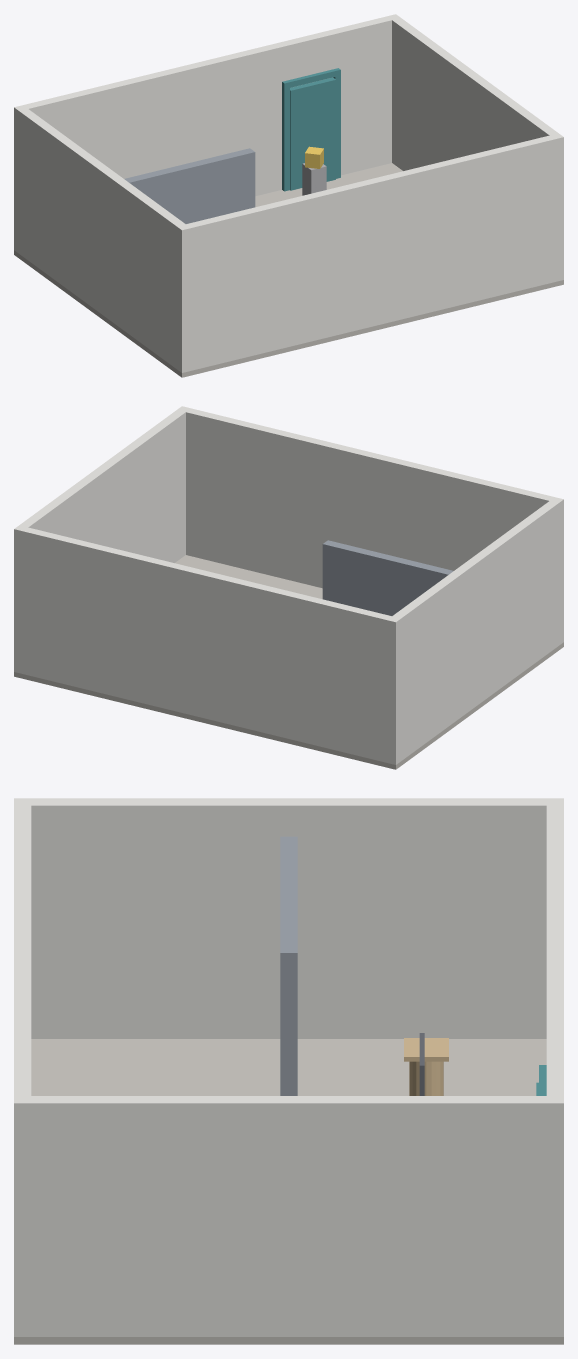
Rendered from world.glb.
3 renders of one model, top to bottom at view 1: azimuth 30°, elevation 25°; view 2: azimuth 150°, elevation 25°; view 3: azimuth 270°, elevation 25°, orthographic. The views are drawn at different scales.
Parts seen in each view (by area): view 1: WallSouth, WallNorth, WallWest, WallEast, Partition, Door_Home, Floor, BeaconStand; view 2: WallNorth, WallSouth, WallWest, WallEast, Partition, Floor; view 3: WallEast, WallWest, Floor, WallNorth, WallSouth, Partition, Plinth.
Part boxes in pixels (box(x1,y1,x2,y2)): WallSouth: box(176, 133, 563, 372); WallNorth: box(14, 14, 400, 253); WallWest: box(19, 109, 185, 368); WallEast: box(392, 18, 558, 170); Partition: box(124, 148, 255, 223); Door_Home: box(282, 68, 340, 191); Floor: box(14, 163, 563, 377); BeaconStand: box(302, 163, 326, 195); WallNorth: box(14, 525, 401, 764); WallSouth: box(177, 406, 563, 645); WallWest: box(392, 501, 558, 760); WallEast: box(19, 410, 185, 562); Partition: box(322, 540, 453, 615); Floor: box(14, 555, 563, 769); WallEast: box(31, 1096, 546, 1336); WallWest: box(31, 798, 546, 1038); Floor: box(14, 1039, 563, 1344); WallNorth: box(546, 798, 563, 1336); WallSouth: box(14, 798, 31, 1336); Partition: box(280, 836, 297, 1095); Plinth: box(404, 1038, 448, 1095).
Bounding box in the file's own units: 8.4 × 3.1 × 6.4.
